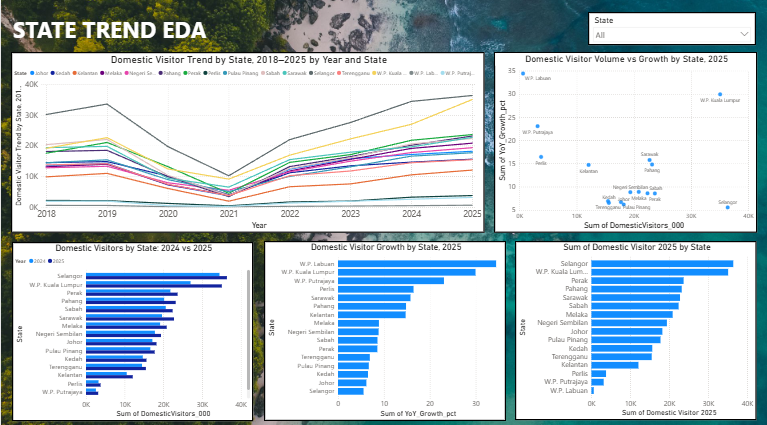

Layout of this report page (visuals, bound fields, positions):
{"tool":"powerbi","page":{"name":" 01 State Trend EDA","canvas":[1920,1080],"ordinal":0},"visuals":[{"type":"lineChart","fields":{"Category":["State_Trend.Year"],"Series":["State_Trend.State"],"Y":["Sum(State_Trend.DomesticVisitors_000)"]},"box":[26,132,1184,452],"z":0},{"type":"barChart","fields":{"Category":["State_Trend.State"],"Y":["Sum(State_Trend.DomesticVisitors_000)"]},"box":[1286,606,604,448],"z":1000},{"type":"slicer","fields":{"Values":["State_Trend.State"]},"box":[1468.3,31.7,420,83.3],"z":2000},{"type":"clusteredBarChart","title":"Domestic Visitor Growth by State, 2025","fields":{"Category":["State_Trend.State"],"Y":["Sum(State_Trend.YoY_Growth_pct)"]},"box":[657.5,605,605,450],"z":4000},{"type":"scatterChart","title":"Domestic Visitor Volume vs Growth by State, 2025","fields":{"Category":["State_Trend.State"],"X":["Sum(State_Trend.Domestic Visitor By State 2025)"],"Y":["Sum(State_Trend.YoY_Growth_pct)"]},"box":[1232,132,658,452],"z":5000},{"type":"clusteredBarChart","title":"Domestic Visitors by State: 2024 vs 2025","fields":{"Category":["State_Trend.State"],"Series":["State_Trend.Year"],"Y":["Sum(State_Trend.Domestic Visitor By State 2025)"]},"box":[26.7,606.7,603.3,448.3],"z":7000},{"type":"textbox","box":[25,32.5,521.2,114],"z":9000}]}

Visuals, with their boxes in screenshot pixels (x1, y1, x2, y2), scaled from the page's 1920x1080 canvas onto the 767x425 screenshot:
lineChart - State_Trend.Year x State_Trend.State: l=10, t=52, r=483, b=230
barChart - State_Trend.State x Sum(State_Trend.DomesticVisitors_000): l=514, t=238, r=755, b=415
slicer - State_Trend.State: l=587, t=12, r=754, b=45
"Domestic Visitor Growth by State, 2025" clusteredBarChart: l=263, t=238, r=504, b=415
"Domestic Visitor Volume vs Growth by State, 2025" scatterChart: l=492, t=52, r=755, b=230
"Domestic Visitors by State: 2024 vs 2025" clusteredBarChart: l=11, t=239, r=252, b=415
textbox: l=10, t=13, r=218, b=58
